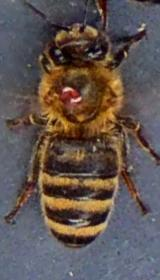varroa_mite: (48, 77, 88, 110)
